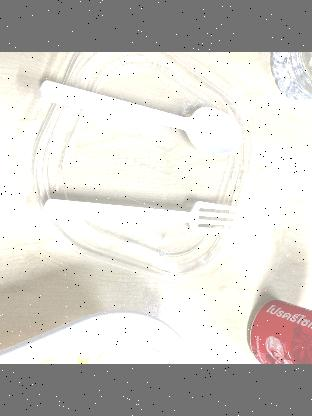Others: (34, 76, 246, 162)
